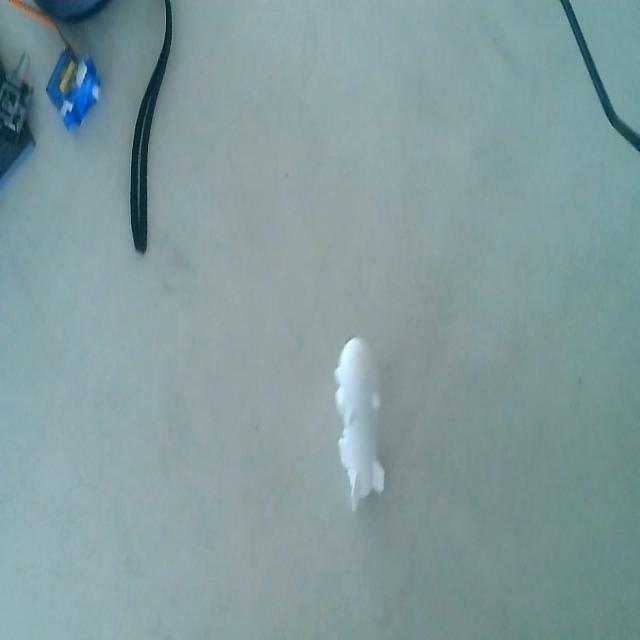Rocket: (329, 329, 388, 515)
